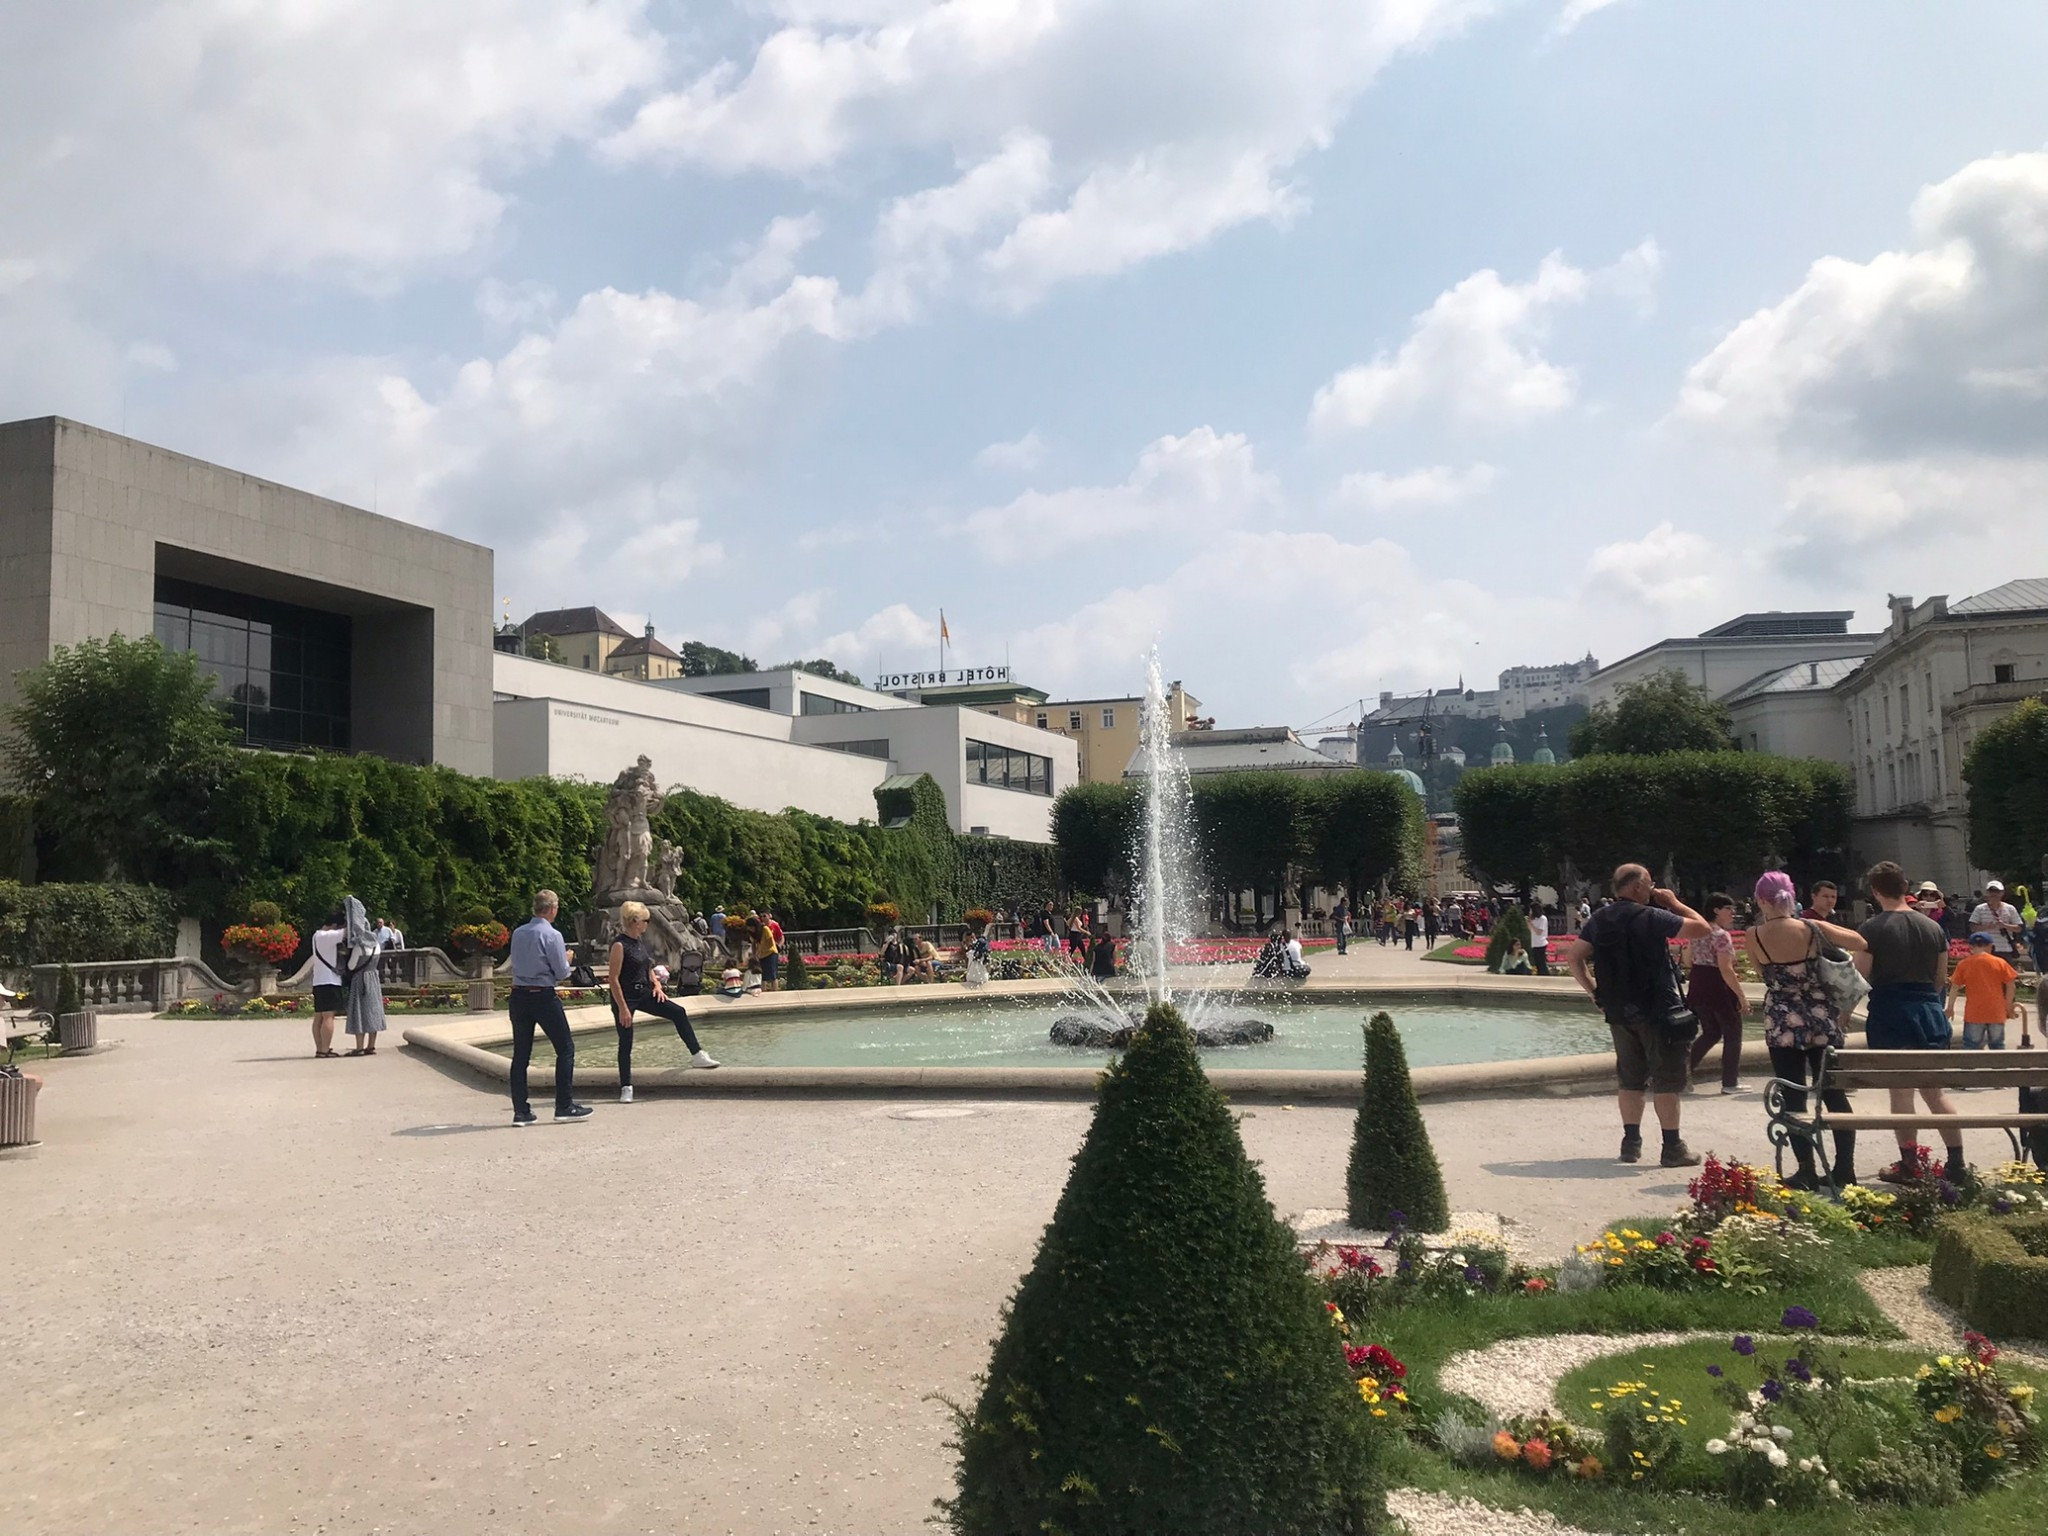people: (1854, 860, 1978, 1187), (1590, 860, 1699, 1172), (1746, 866, 1849, 1187), (490, 890, 584, 1128), (602, 905, 702, 1102), (1696, 896, 1752, 1093), (299, 910, 357, 1072), (1954, 922, 2019, 1066), (349, 902, 384, 1066), (1978, 878, 2025, 969), (1807, 881, 1831, 931)
